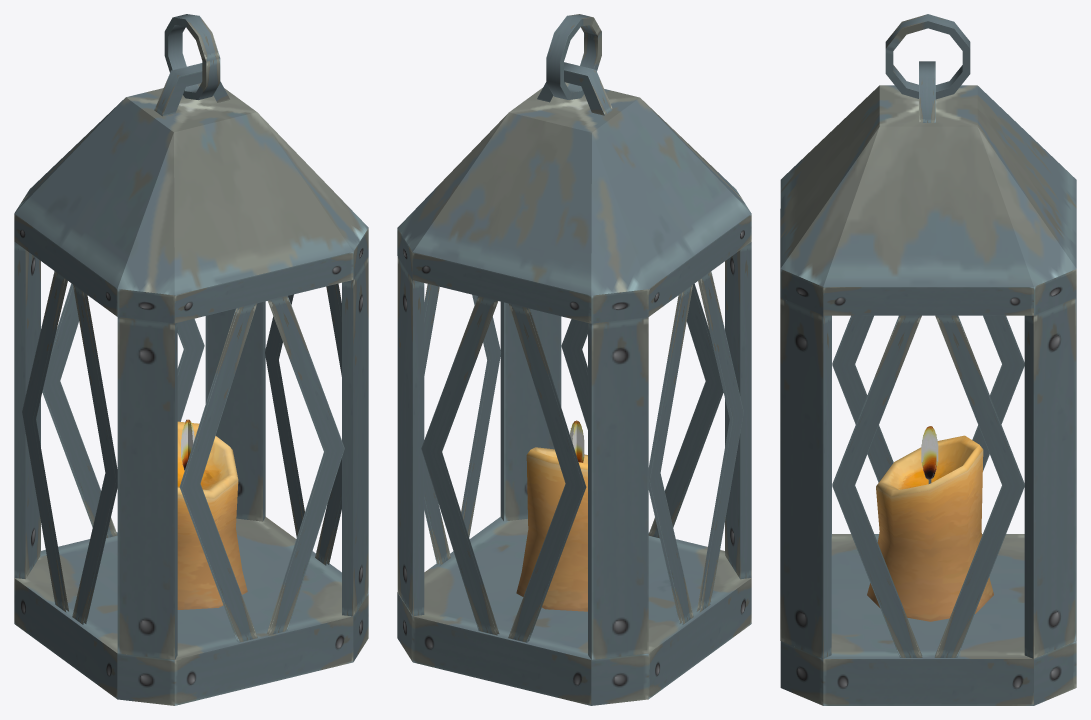
File: Lantern_01.FBX
The picture shows the model from 3 angles, left to right: view 1: azimuth 30°, elevation 25°; view 2: azimuth 150°, elevation 25°; view 3: azimuth 270°, elevation 25°; orthographic projection. The views are drawn at different scales.
Visible parts, largest first — view 1: Lantern_01, Candle_01; view 2: Lantern_01, Candle_01; view 3: Lantern_01, Candle_01, Flame.
Part boxes in pixels (box(x1,y1,x2,y2)): Lantern_01: box(14, 14, 368, 705); Candle_01: box(177, 421, 247, 609); Lantern_01: box(397, 14, 751, 705); Candle_01: box(516, 447, 587, 611); Lantern_01: box(780, 14, 1076, 705); Candle_01: box(867, 435, 993, 621); Flame: box(921, 426, 938, 479).
Bounding box in the file's own units: 0.2504 × 0.5838 × 0.2504.
